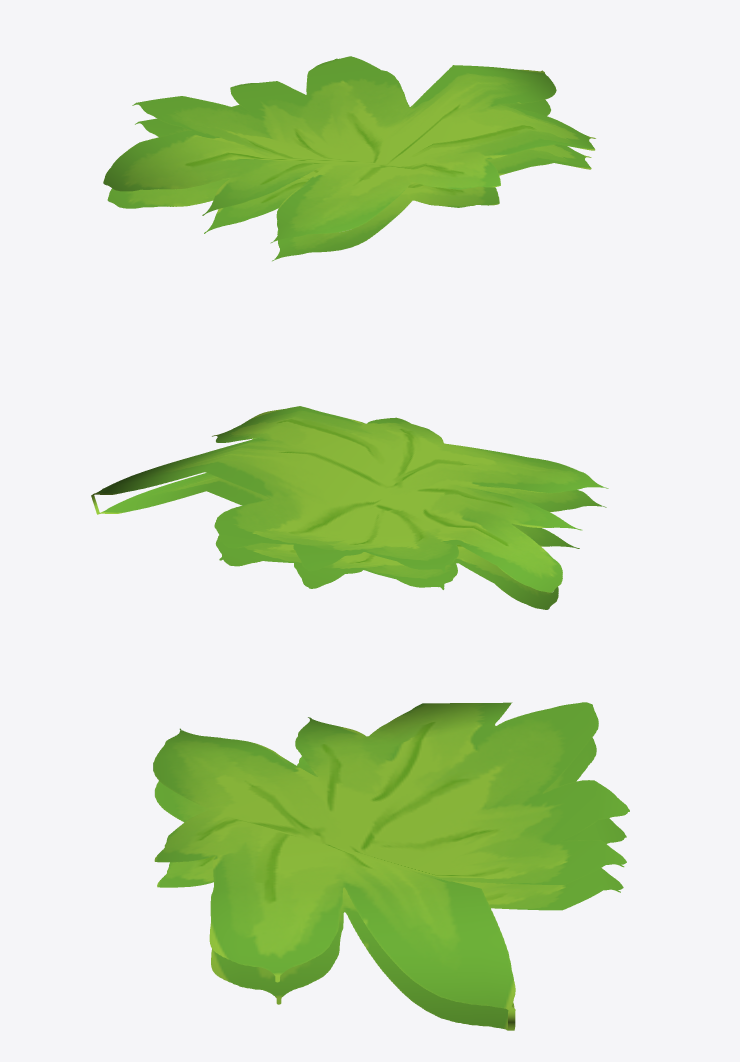
Rendered from alga.fbx.
3 views of the same model, one above another, from view 1: azimuth 30°, elevation 25°; view 2: azimuth 150°, elevation 25°; view 3: azimuth 270°, elevation 25° (orthographic). The views are drawn at different scales.
Visible parts, largest first — view 1: Plane; view 2: Plane; view 3: Plane.
Boxes of the visible parts, bbox=[...] form: Plane: bbox=[103, 56, 595, 261]; Plane: bbox=[91, 406, 608, 609]; Plane: bbox=[153, 702, 629, 1030].
Size of the model in its own units: 200 by 30.06 by 200.
